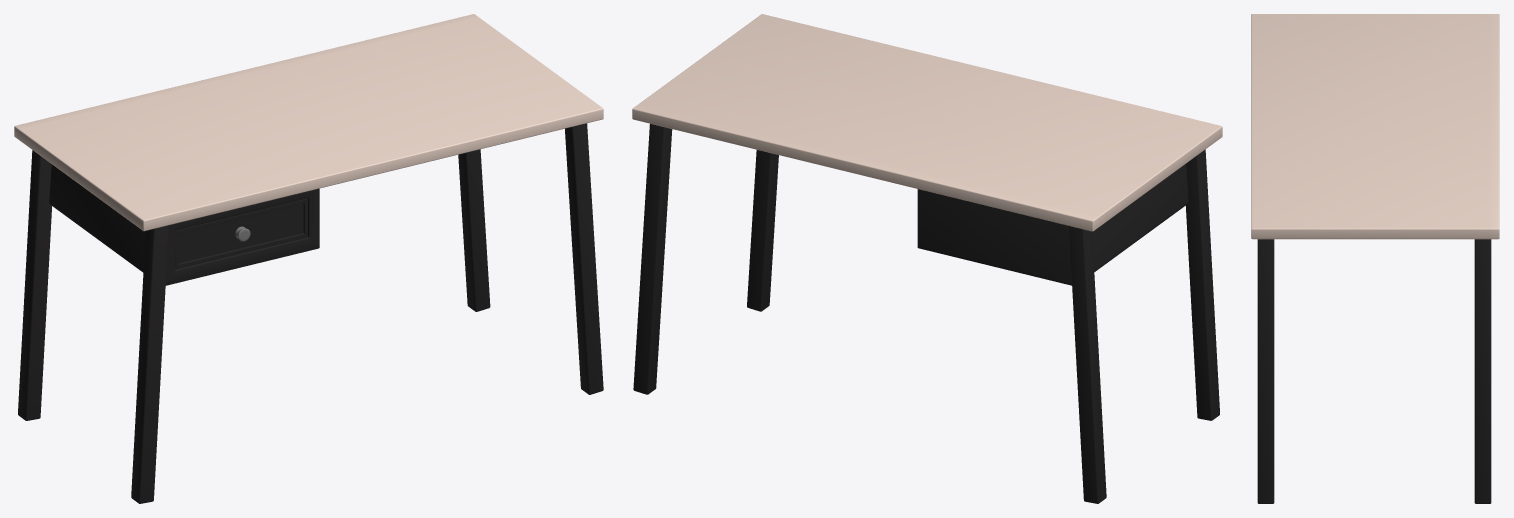
File: SkrivbordModelViewer.gltf
3 views of the same model, side by side, from view 1: azimuth 30°, elevation 25°; view 2: azimuth 150°, elevation 25°; view 3: azimuth 270°, elevation 25° (orthographic). The views are drawn at different scales.
Visible parts, largest first — view 1: Bänk, Ben_Klassisk, Låda_Vänster; view 2: Bänk, Ben_Klassisk, Låda_Vänster; view 3: Bänk, Ben_Klassisk.
Part boxes in pixels (box(x1,y1,x2,y2)): Bänk: box(14, 14, 603, 231); Ben_Klassisk: box(18, 123, 603, 503); Låda_Vänster: box(49, 164, 319, 285); Bänk: box(632, 14, 1222, 231); Ben_Klassisk: box(633, 123, 1219, 503); Låda_Vänster: box(917, 164, 1188, 285); Bänk: box(1251, 14, 1499, 239); Ben_Klassisk: box(1257, 239, 1491, 503).
Bounding box in the file's own units: 1.29 × 0.76 × 0.6229.
